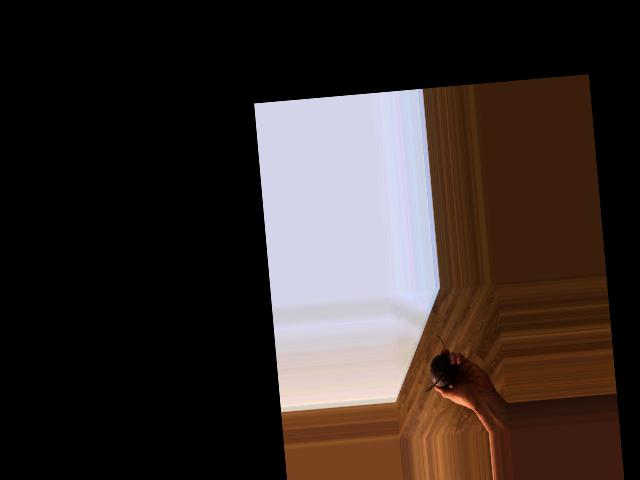beet: (421, 332, 457, 391)
